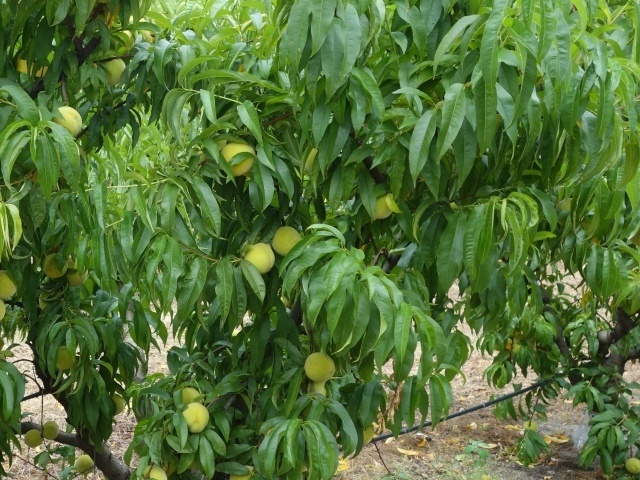peach: (237, 236, 280, 276), (216, 137, 257, 175), (267, 223, 303, 261), (177, 398, 212, 437), (302, 348, 338, 382), (53, 101, 85, 139), (96, 53, 131, 87), (61, 257, 92, 287), (368, 192, 397, 223), (41, 251, 69, 281), (53, 342, 78, 374), (175, 386, 203, 414), (1, 266, 21, 301), (137, 459, 170, 479), (20, 427, 45, 452), (107, 390, 128, 416), (73, 453, 96, 476), (37, 420, 61, 442)
